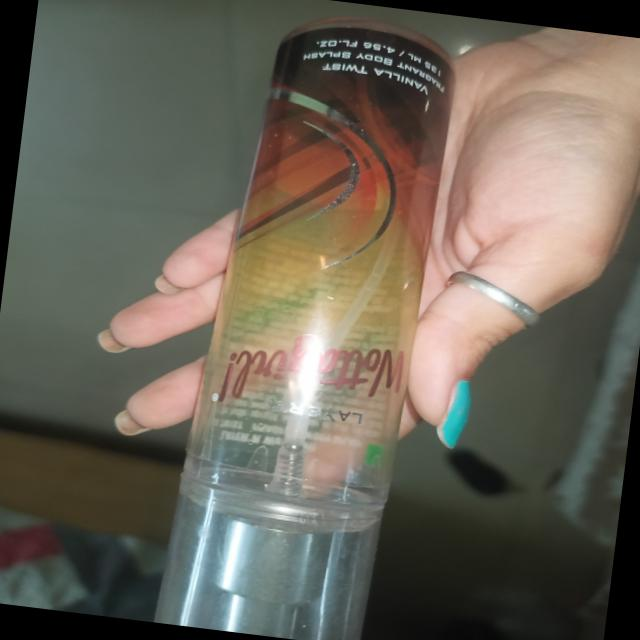plastic_bottle: (128, 0, 500, 640)
